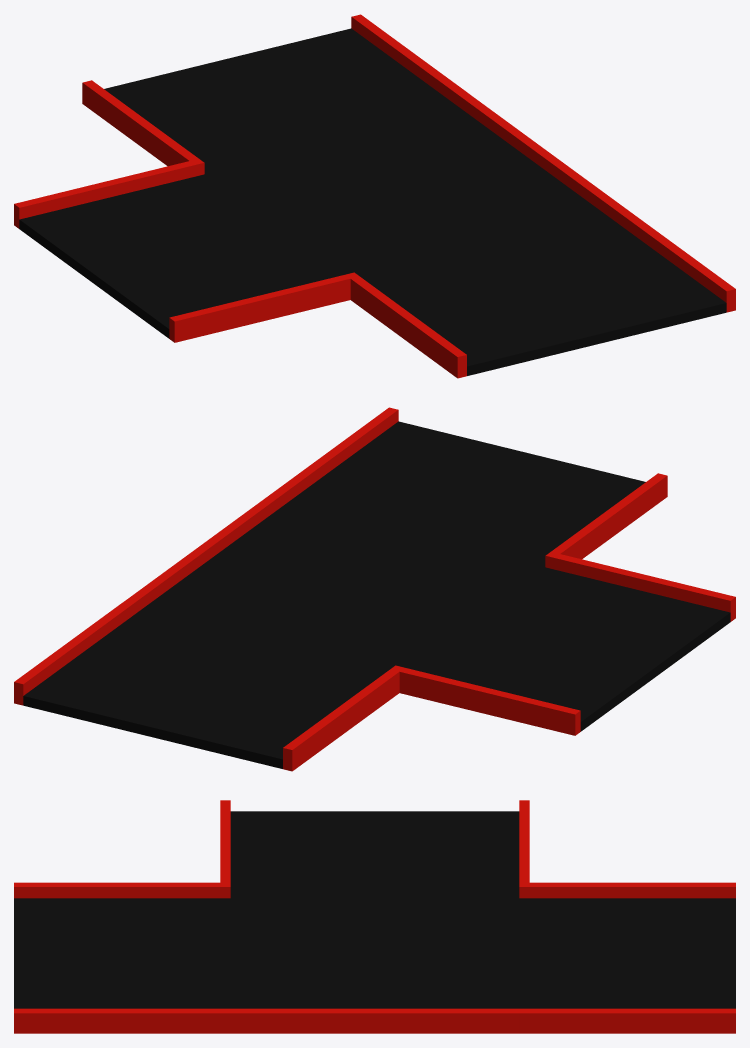
Rendered from Turn_01.fbx.
3 views of the same model, one above another, from view 1: azimuth 30°, elevation 25°; view 2: azimuth 150°, elevation 25°; view 3: azimuth 270°, elevation 25° (orthographic). The views are drawn at different scales.
Parts seen in each view (by area): view 1: Turn_01; view 2: Turn_01; view 3: Turn_01.
Boxes of the visible parts, x1,y1,x2,y2 form: Turn_01: [14, 14, 735, 378]; Turn_01: [14, 407, 735, 771]; Turn_01: [14, 800, 735, 1033].
Size of the model in its own units: 96.33 by 4.37 by 138.
